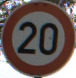20 km speed: (1, 1, 76, 77)
